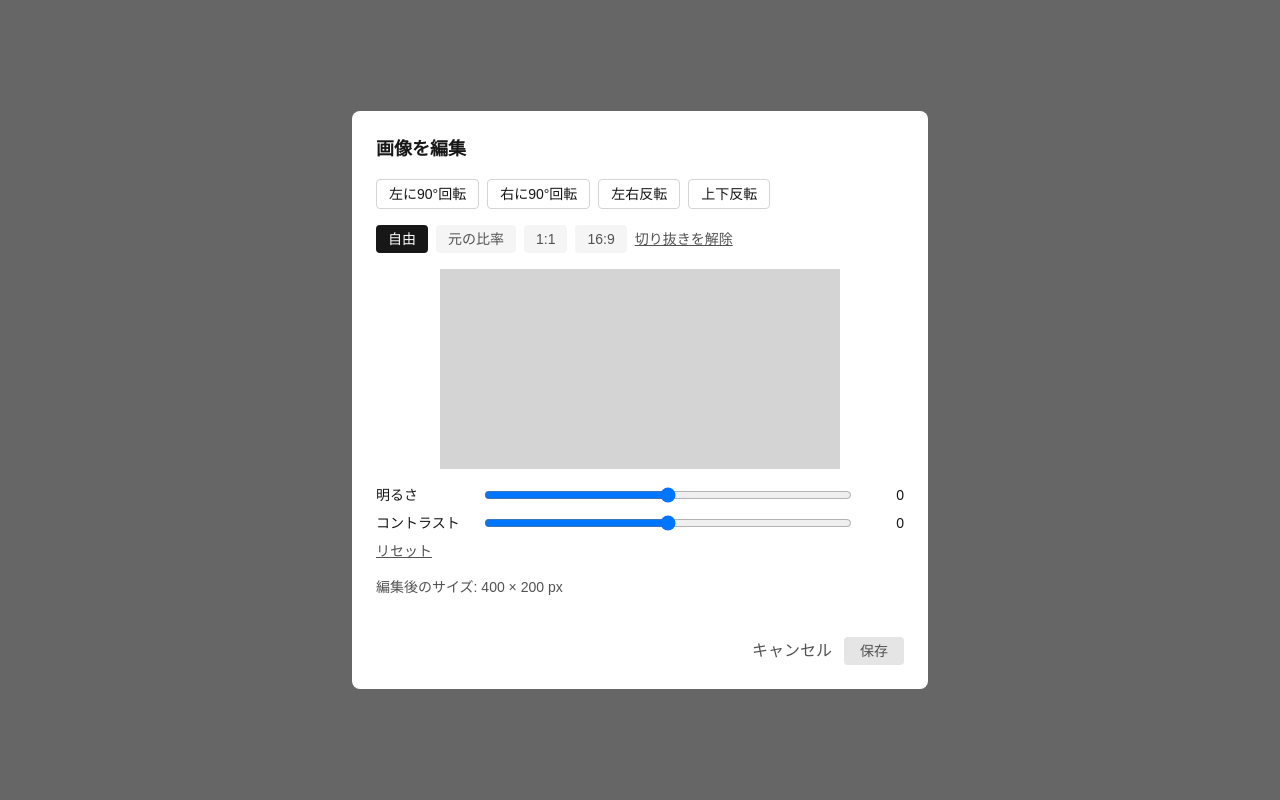
Test: ImageEditDialog 回転・反転(issue #1655) › 右に90°回転すると、プレビューが即座に回り、幅と高さが入れ替わる
Click the button "右に90°回転": (539, 194) [487,179,590,209]
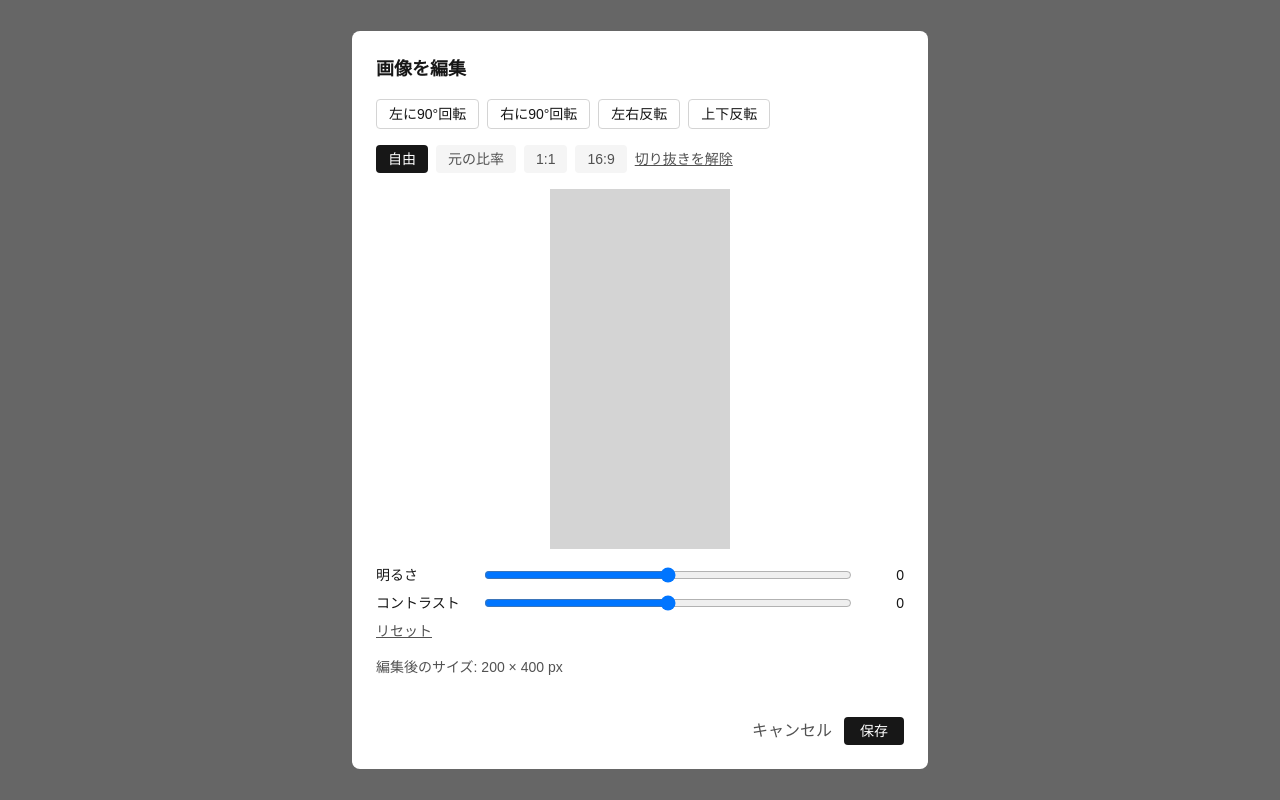
Expected: the text "編集後のサイズ: 200 × 400 px" is shown, [376,659,563,675]
Expected: the button "保存" is enabled, [844,717,904,745]
